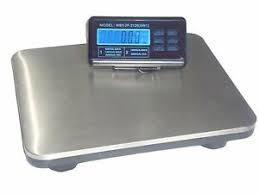Industrial Scale: (10, 15, 257, 172)
